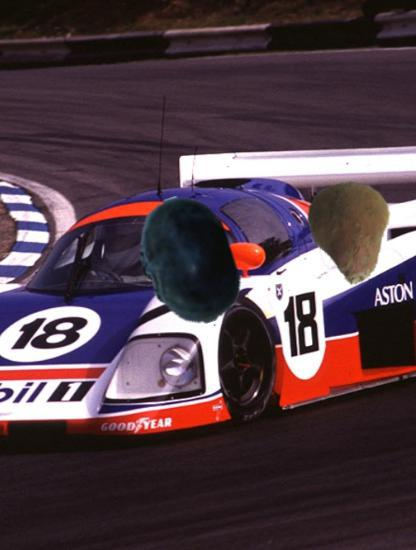Blueberry: (122, 196, 253, 327)
Potato: (293, 180, 399, 286)
